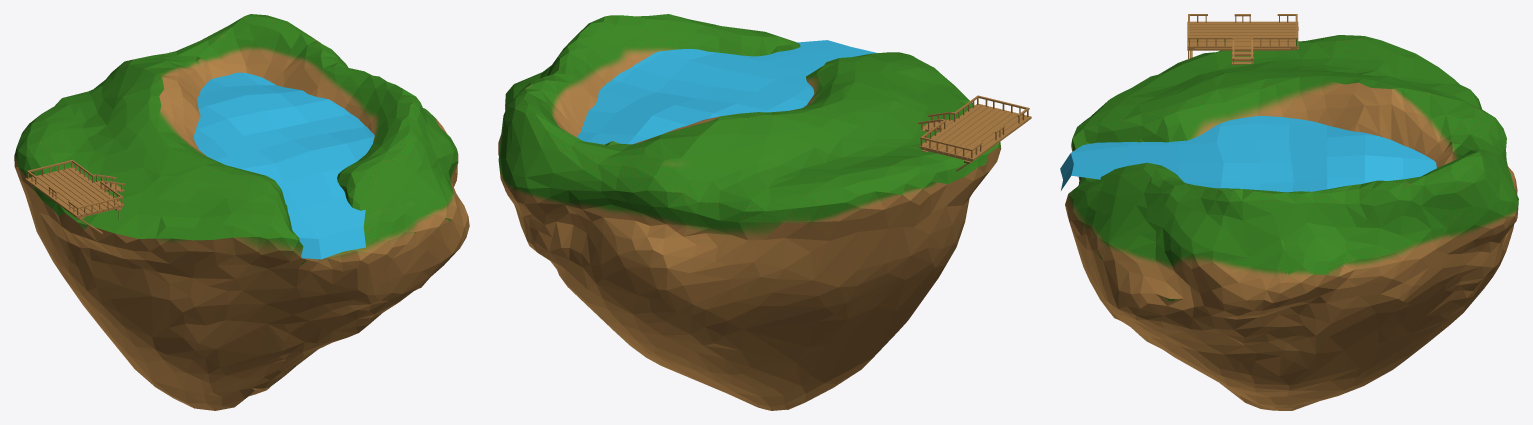
File: TurtleGodIsland_Lake.fbx
The picture shows the model from 3 angles, left to right: view 1: azimuth 30°, elevation 25°; view 2: azimuth 150°, elevation 25°; view 3: azimuth 270°, elevation 25°; orthographic projection. The views are drawn at different scales.
Parts seen in each view (by area): view 1: Cube.001, Plane; view 2: Cube.001, Plane; view 3: Cube.001, Plane.
Part boxes in pixels (bbox=[...]): Cube.001: bbox=[14, 14, 469, 410]; Plane: bbox=[194, 72, 374, 259]; Cube.001: bbox=[498, 14, 1031, 410]; Plane: bbox=[576, 40, 877, 144]; Cube.001: bbox=[1065, 14, 1518, 410]; Plane: bbox=[1060, 116, 1436, 192].
Bounding box in the file's own units: 11474 × 7774 × 10238.
Materials: 2 (1 with a texture image).
